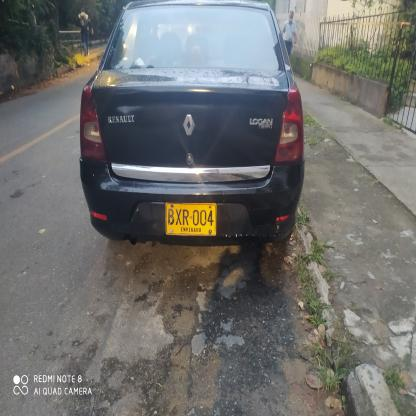placa: (163, 200, 218, 238)
